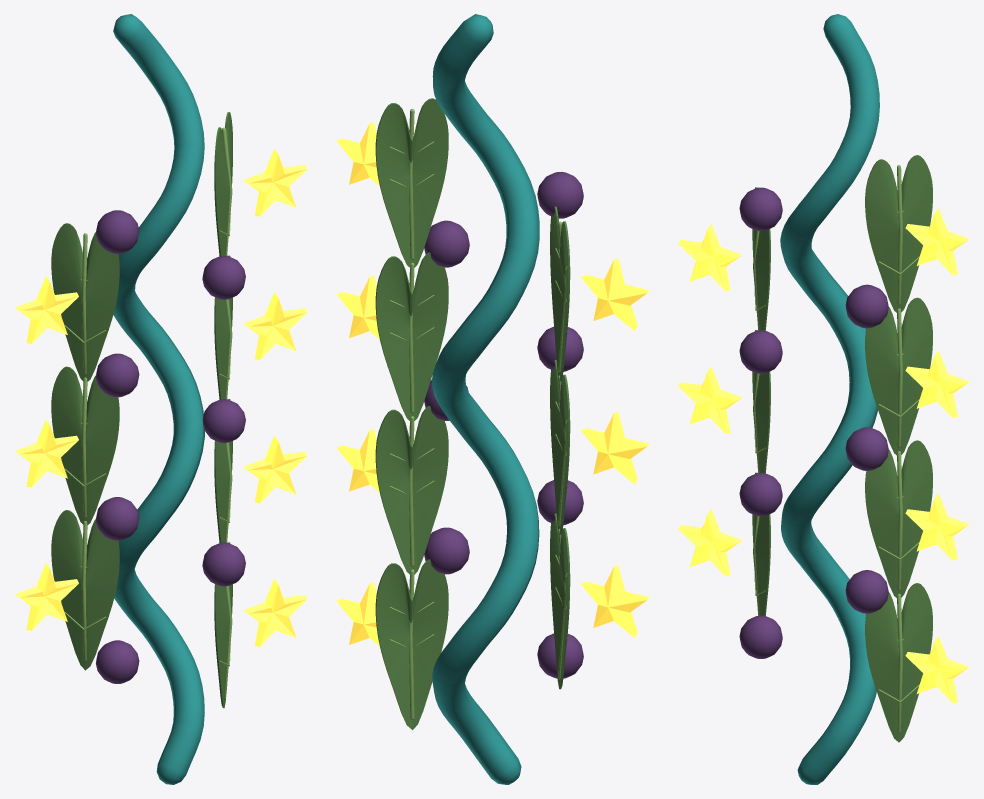
The model's file is star_vine_budding.glb.
3 views of the same model, side by side, from view 1: azimuth 30°, elevation 25°; view 2: azimuth 150°, elevation 25°; view 3: azimuth 330°, elevation 25° (orthographic). The views are drawn at different scales.
Visible parts, largest first — view 1: Twining_stem, Broad_shaped_leaf.001, Broad_shaped_leaf.005, Broad_shaped_leaf.003, Broad_shaped_leaf.006, Star.003, Star.004, Star.002, Star.001, Star, Star.005, Star.006 (+13 smaller); view 2: Twining_stem, Broad_shaped_leaf.006, Broad_shaped_leaf.002, Broad_shaped_leaf.004, Broad_shaped_leaf, Broad_shaped_leaf.005, Broad_shaped_leaf.001, Broad_shaped_leaf.003, Star.003, Star.005, Star.001, Berry.006 (+13 smaller); view 3: Twining_stem, Broad_shaped_leaf.006, Broad_shaped_leaf, Broad_shaped_leaf.004, Broad_shaped_leaf.002, Star.001, Star.002, Star.004, Star.003, Star.006, Star.005, Star (+14 smaller).
Boxes of the visible parts, <box> form: Twining_stem: <box>113,14,204,784</box>; Broad_shaped_leaf.001: <box>51,510,119,670</box>; Broad_shaped_leaf.005: <box>51,223,119,381</box>; Broad_shaped_leaf.003: <box>51,366,119,525</box>; Broad_shaped_leaf.006: <box>214,112,232,256</box>; Star.003: <box>15,420,78,487</box>; Star.004: <box>243,292,307,359</box>; Star.002: <box>243,436,307,503</box>; Star.001: <box>15,563,78,630</box>; Star: <box>243,579,307,646</box>; Star.005: <box>14,276,78,343</box>; Star.006: <box>243,149,307,216</box>; Twining_stem: <box>432,14,539,784</box>; Broad_shaped_leaf.006: <box>375,98,448,268</box>; Broad_shaped_leaf.002: <box>375,406,448,574</box>; Broad_shaped_leaf.004: <box>375,252,448,421</box>; Broad_shaped_leaf: <box>375,559,448,729</box>; Broad_shaped_leaf.005: <box>550,206,570,381</box>; Broad_shaped_leaf.001: <box>550,513,570,689</box>; Broad_shaped_leaf.003: <box>550,360,570,534</box>; Star.003: <box>581,412,649,484</box>; Star.005: <box>581,258,649,330</box>; Star.001: <box>581,565,649,637</box>; Berry.006: <box>537,172,583,218</box>; Twining_stem: <box>780,14,879,784</box>; Broad_shaped_leaf.006: <box>865,155,932,312</box>; Broad_shaped_leaf: <box>865,583,932,742</box>; Broad_shaped_leaf.004: <box>865,297,932,455</box>; Broad_shaped_leaf.002: <box>865,440,932,597</box>; Star.001: <box>678,509,742,576</box>; Star.002: <box>905,493,969,560</box>; Star.004: <box>905,350,969,417</box>; Star.003: <box>678,366,742,433</box>; Star.006: <box>905,208,969,275</box>; Star.005: <box>678,224,741,291</box>; Star: <box>905,636,969,703</box>.
Bounding box in the file's own units: 0.3057 × 0.7481 × 0.0962.
